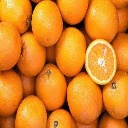orange: (102, 70, 128, 118)
